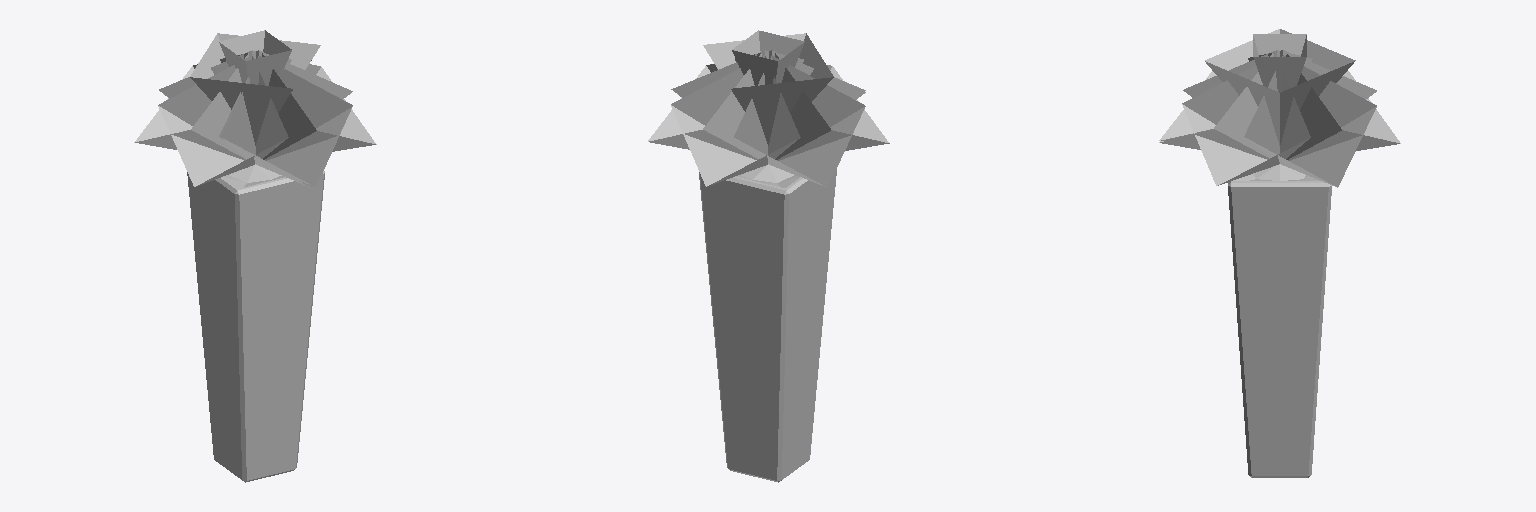
The model's file is square_spikes.obj.
3 renders of one model, left to right at view 1: azimuth 30°, elevation 25°; view 2: azimuth 150°, elevation 25°; view 3: azimuth 270°, elevation 25°, orthographic.
Parts seen in each view (by area): view 1: Square.001; view 2: Square.001; view 3: Square.001.
Boxes of the visible parts, x1,y1,x2,y2 form: Square.001: [134, 30, 376, 482]; Square.001: [648, 30, 889, 482]; Square.001: [1159, 29, 1400, 477].
Bounding box in the file's own units: 0.629 × 1.38 × 0.7203.